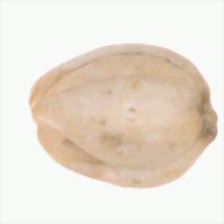L1: (196, 82, 218, 141), (25, 81, 45, 144)
L2: (28, 43, 218, 189)
